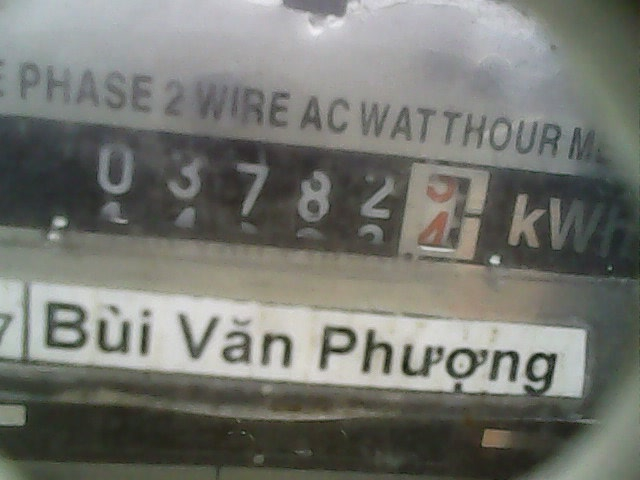phy_plate: (58, 121, 501, 275)
